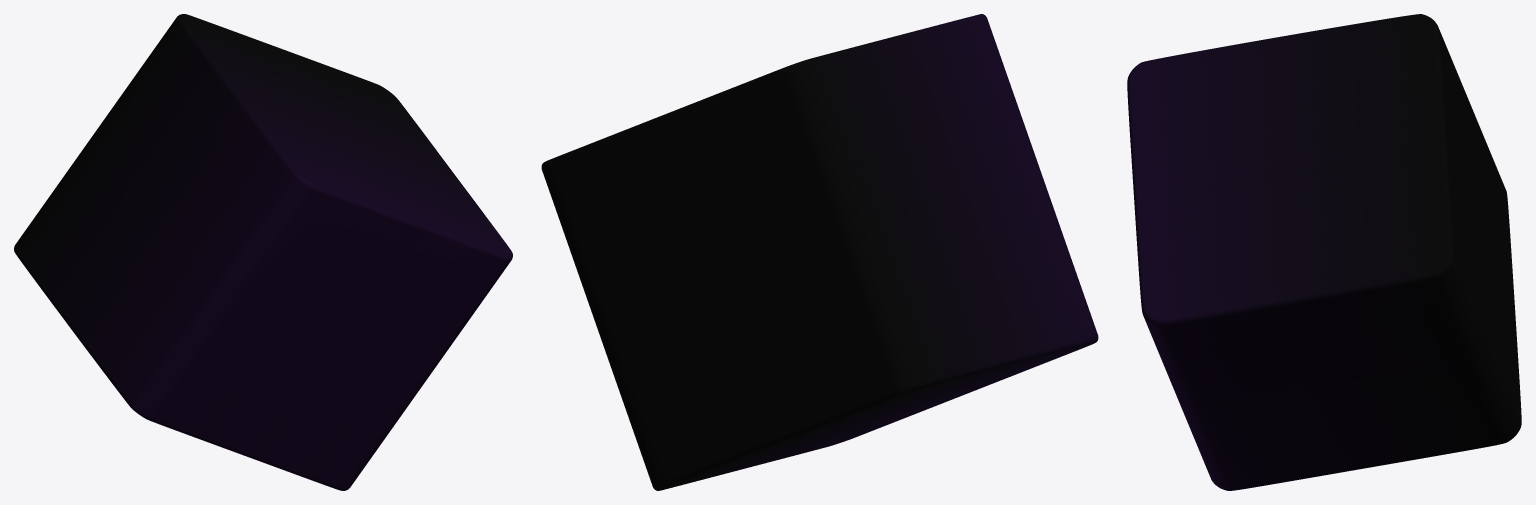
3 renders of one model, left to right at view 1: azimuth 30°, elevation 25°; view 2: azimuth 150°, elevation 25°; view 3: azimuth 270°, elevation 25°, orthographic. The views are drawn at different scales.
Size of what is drawn, in the model's own units: 0.6314 by 0.6788 by 0.5531.
1 material, 1 textured.
